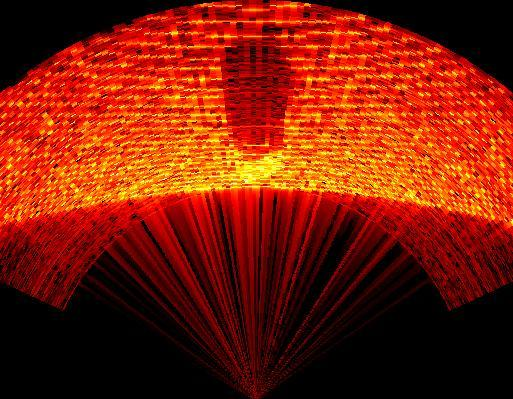box_crate: (218, 35, 292, 158)
